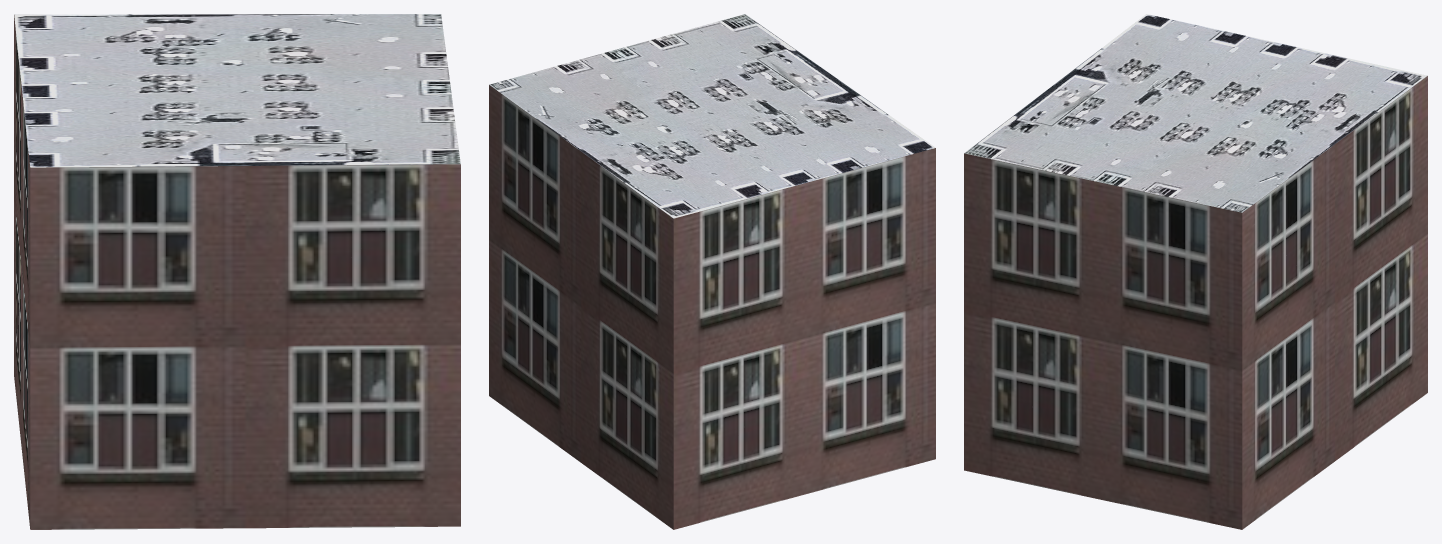
File: ResTex__702.fbx
3 views of the same model, side by side, from view 1: azimuth 30°, elevation 25°; view 2: azimuth 150°, elevation 25°; view 3: azimuth 270°, elevation 25° (orthographic). The views are drawn at different scales.
Visible parts, largest first — view 1: CityEngineMaterial_12_m, CityEngineMaterial_4_m; view 2: CityEngineMaterial_12_m, CityEngineMaterial_4_m; view 3: CityEngineMaterial_12_m, CityEngineMaterial_4_m.
Part boxes in pixels (x1,y1,x2,y2): CityEngineMaterial_12_m: [14, 15, 460, 529]; CityEngineMaterial_4_m: [14, 14, 460, 167]; CityEngineMaterial_12_m: [489, 85, 935, 529]; CityEngineMaterial_4_m: [489, 14, 935, 218]; CityEngineMaterial_12_m: [964, 76, 1427, 529]; CityEngineMaterial_4_m: [964, 14, 1427, 212].
Bounding box in the file's own units: 8.07 × 6 × 7.95.
2 materials, 2 textured.
